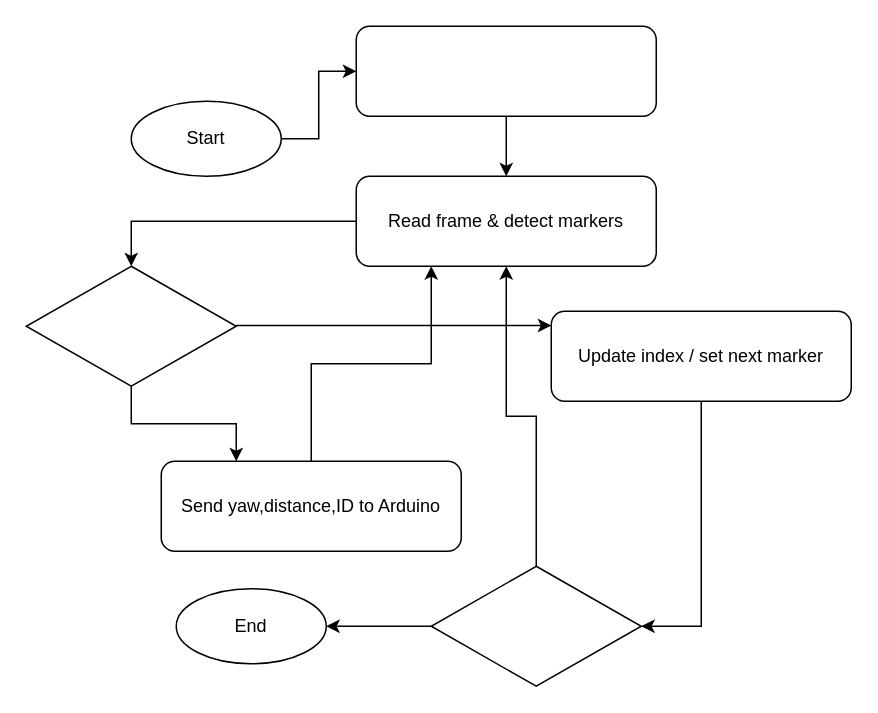
This 878x713 diagram has some shape labels left out. The centre of each missing label's shape, as x and y in pixels:
"Distance > 0.5?" belongs at point 130,325.
"Initialize: USB reset, ArUco dict, camera, serial, sequence list" belongs at point 505,70.
"More markers left?" belongs at point 535,625.
